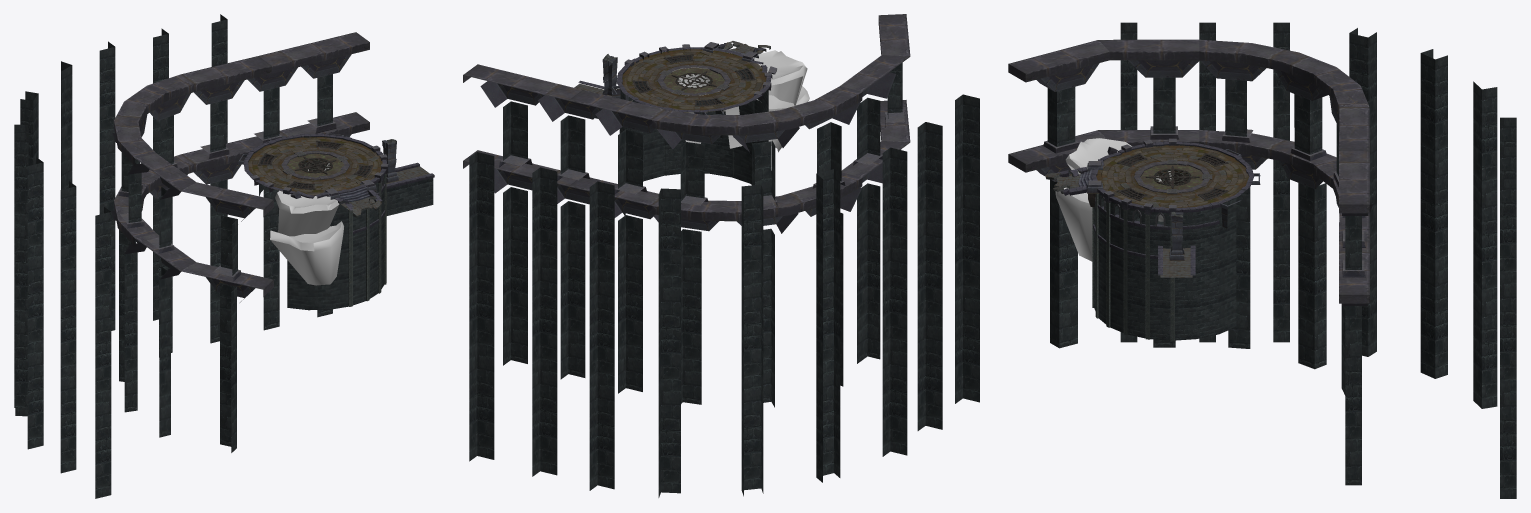
File: terrain_section02_guanka09.FBX
3 views of the same model, side by side, from view 1: azimuth 30°, elevation 25°; view 2: azimuth 150°, elevation 25°; view 3: azimuth 270°, elevation 25° (orthographic). The views are drawn at different scales.
Visible parts, largest first — view 1: terrain_section02_guanka09; view 2: terrain_section02_guanka09; view 3: terrain_section02_guanka09.
Part boxes in pixels (left/top/right/bottom): terrain_section02_guanka09: left=14, top=14, right=434, bottom=498; terrain_section02_guanka09: left=463, top=14, right=979, bottom=497; terrain_section02_guanka09: left=1008, top=22, right=1516, bottom=498.
Size of the model in its own units: 99.32 by 75.89 by 104.
